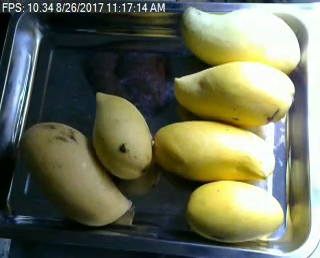Mango: (21, 123, 131, 225), (179, 5, 300, 75), (175, 62, 295, 126), (154, 122, 273, 184), (187, 181, 282, 242), (90, 90, 153, 179)
